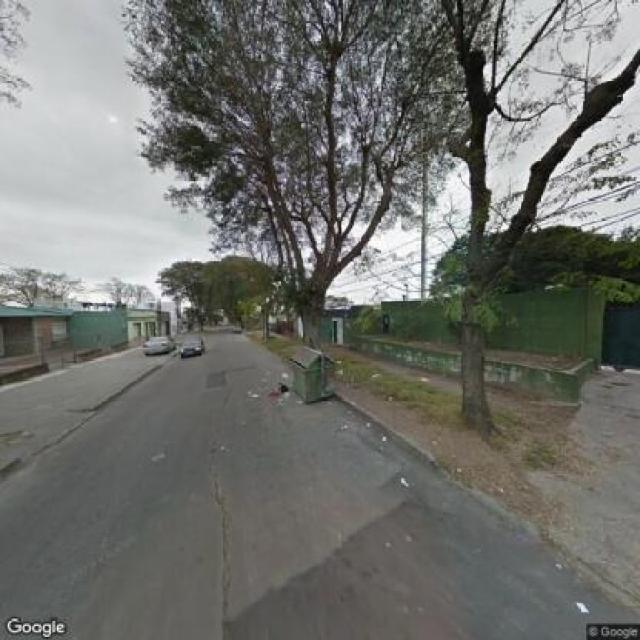garbage: (266, 372, 296, 408)
